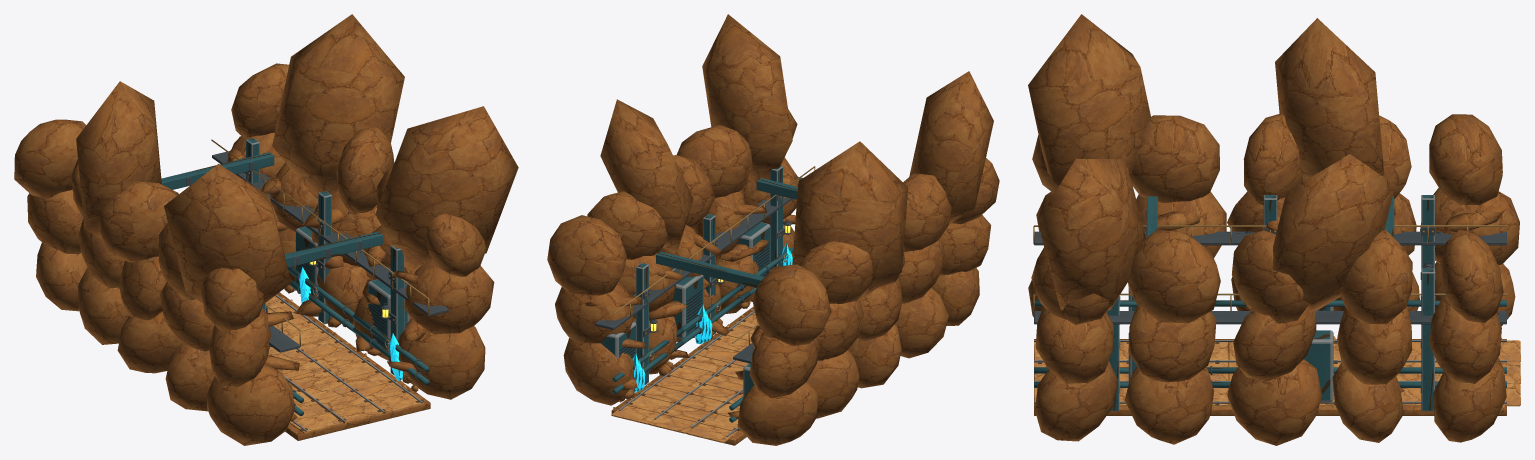
File: industrial_track.glb
3 views of the same model, side by side, from view 1: azimuth 30°, elevation 25°; view 2: azimuth 150°, elevation 25°; view 3: azimuth 270°, elevation 25° (orthographic). The views are drawn at different scales.
Visible parts, largest first — view 1: industrial_track; view 2: industrial_track; view 3: industrial_track.
Boxes of the visible parts, x1=… form: industrial_track: x1=14, y1=14, x2=518, y2=445; industrial_track: x1=547, y1=14, x2=999, y2=445; industrial_track: x1=1028, y1=14, x2=1520, y2=445.
Size of the model in its own units: 20.78 by 17.31 by 25.02.
13 materials, 7 textured.
